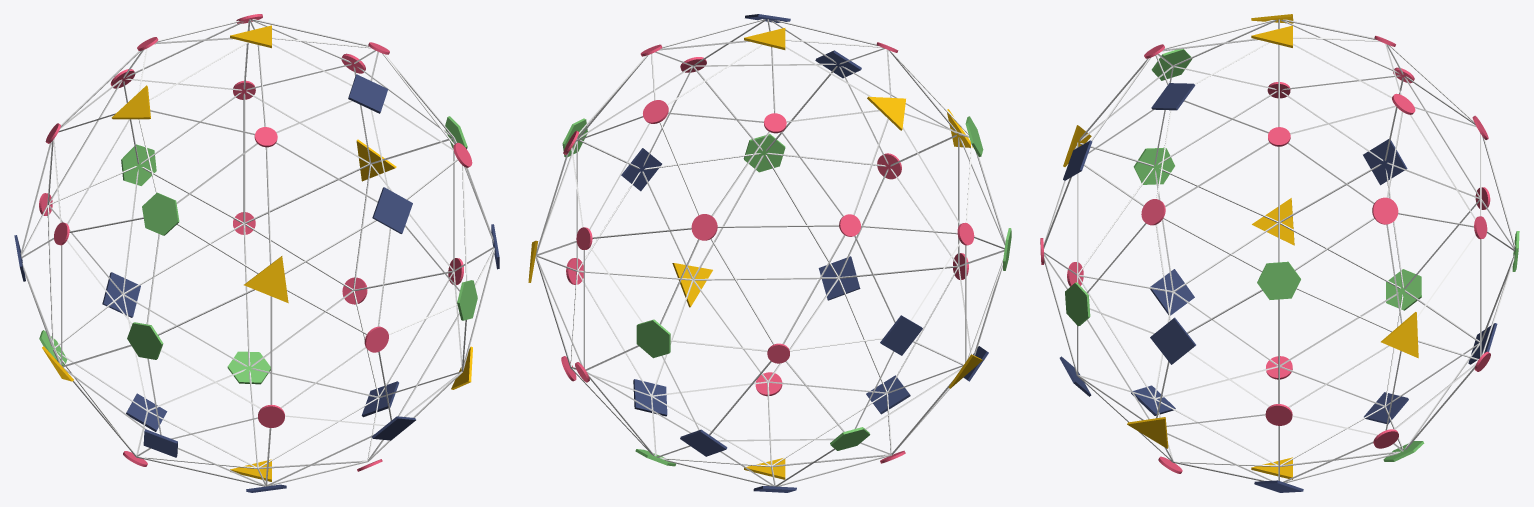
Rendered from helix-animation-test4.glb.
3 views of the same model, side by side, from view 1: azimuth 30°, elevation 25°; view 2: azimuth 150°, elevation 25°; view 3: azimuth 270°, elevation 25° (orthographic).
Visible parts, largest first — view 1: wireisosphereV4.001; view 2: wireisosphereV4.001; view 3: wireisosphereV4.001.
Boxes of the visible parts, x1,y1,x2,y2 form: wireisosphereV4.001: [14, 14, 499, 492]; wireisosphereV4.001: [528, 14, 1011, 492]; wireisosphereV4.001: [1040, 14, 1519, 492].
Size of the model in its own units: 3.43 by 3.46 by 3.46.
